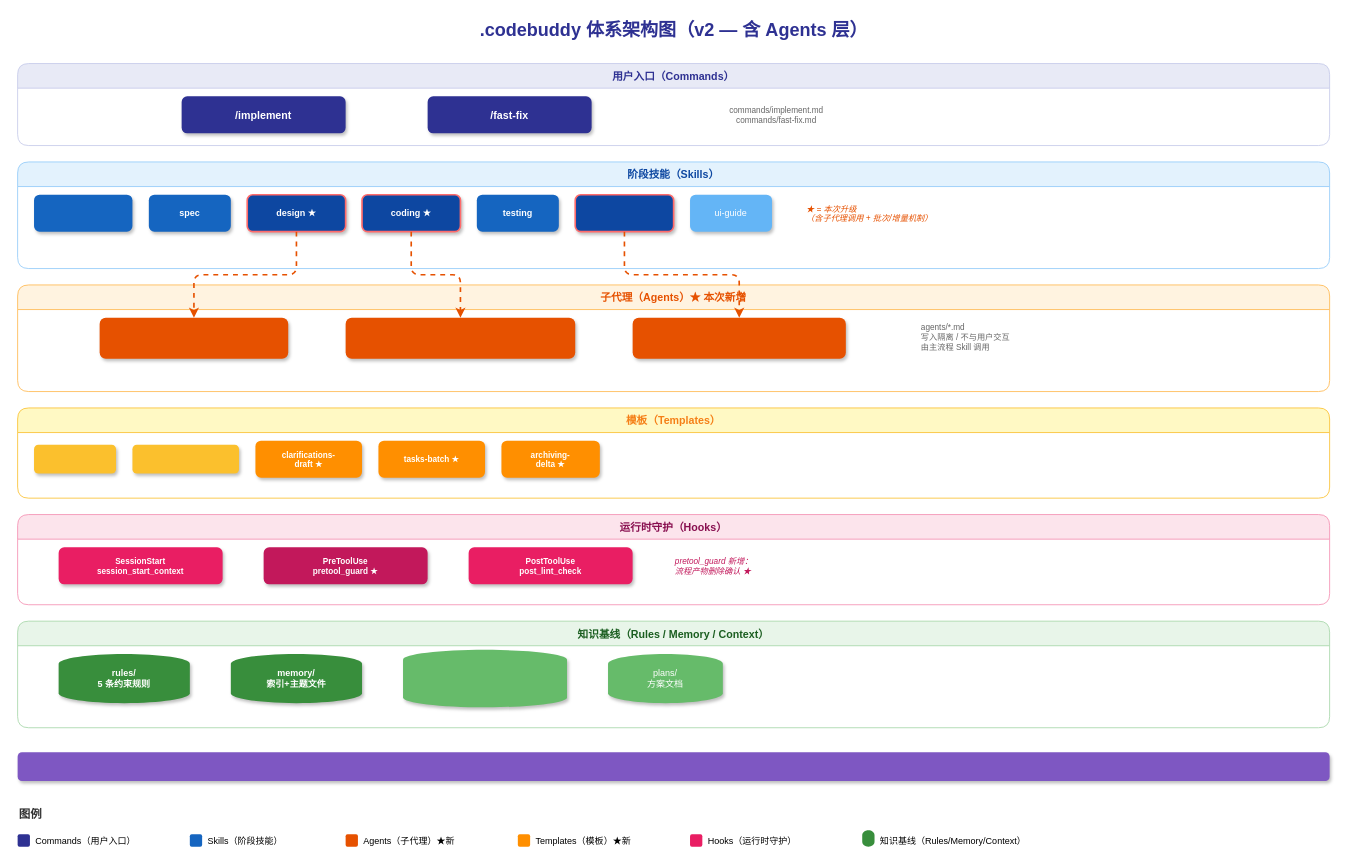
This 1348x860 diagram has some shape labels left out. The shapes that lost their labels are listed below. From the top down, each one's centre as x and y in pixels, then its label:
At point 83,214: "requirement- analysis".
At point 625,214: "archiving ★".
At point 194,339: "design-clarifier 代码搜证 + P0/P1/P2".
At point 461,339: "batch-implementer 单批次编码 + 验证 + 状态更新".
At point 739,339: "archiving-delta-synthesizer 增量提炼 + delta 草稿".
At point 75,460: "handoff".
At point 186,460: "memory-capture".
At point 485,679: "context/ current-task.md clarifications.draft.md archiving.delta.md".
At point 674,767: "反馈闭环：归档 → 更新 Rules/Memory → 下一个需求自动生效".
